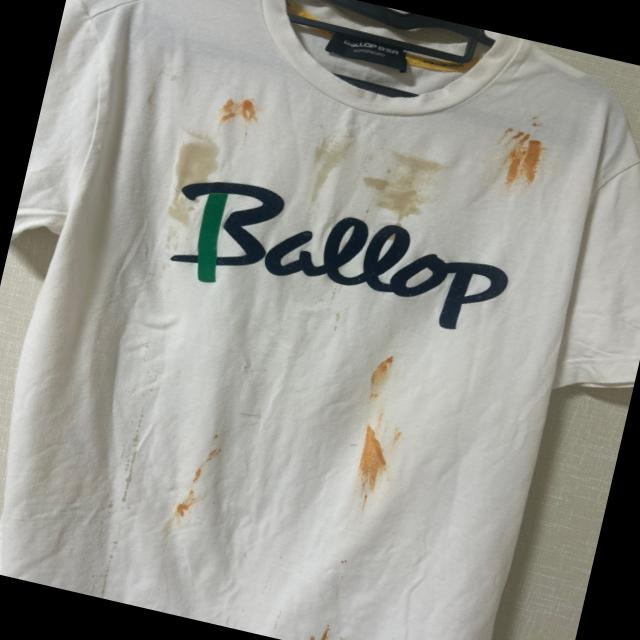stain: (361, 148, 444, 228), (341, 416, 405, 516), (160, 132, 218, 238), (174, 436, 228, 524), (490, 123, 550, 195), (114, 413, 152, 507), (89, 520, 132, 601), (304, 138, 352, 196), (210, 89, 268, 132), (362, 356, 402, 400), (303, 620, 337, 640), (373, 408, 390, 436), (529, 115, 544, 128)
